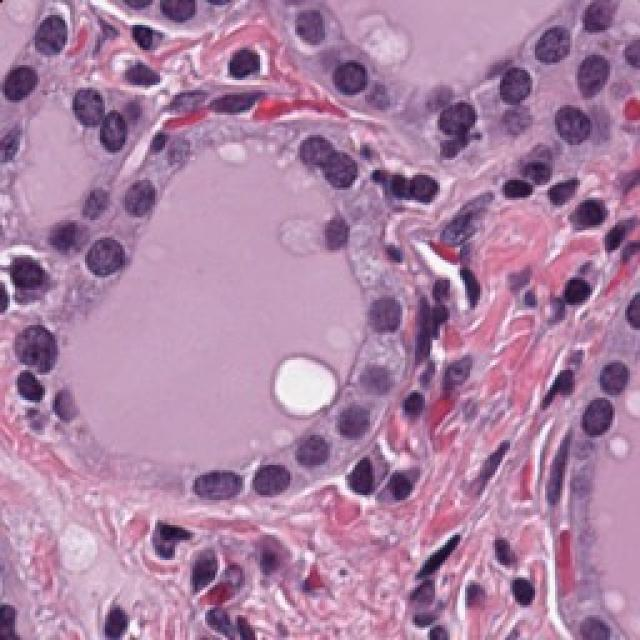normal: (296, 112, 381, 195), (466, 35, 550, 113), (318, 39, 397, 121), (178, 441, 254, 523), (428, 78, 497, 152), (349, 347, 421, 409), (76, 232, 137, 304), (238, 438, 295, 514), (7, 312, 72, 377), (103, 160, 169, 220), (520, 8, 580, 70), (544, 87, 595, 158), (328, 385, 379, 455), (360, 273, 410, 344), (64, 76, 120, 138), (288, 423, 343, 479), (96, 118, 152, 166)
